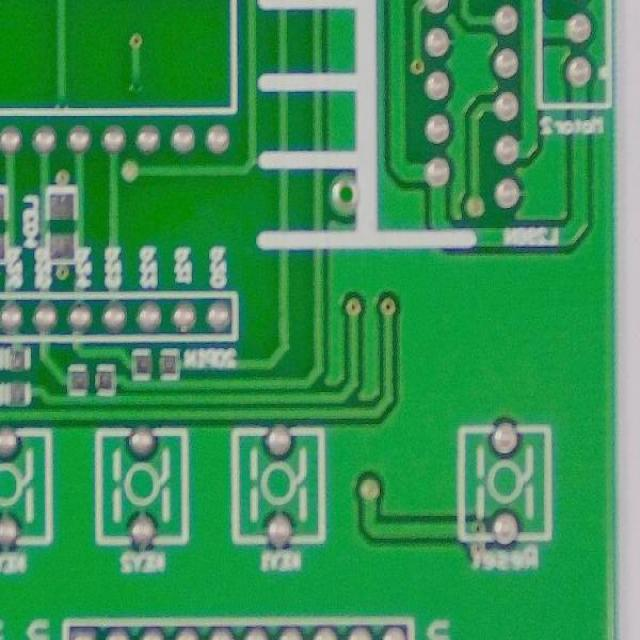missing hole: (328, 170, 362, 218)
